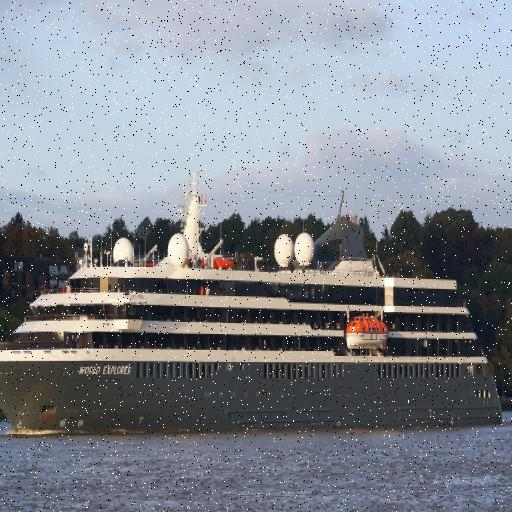cruises: (1, 168, 510, 437)
